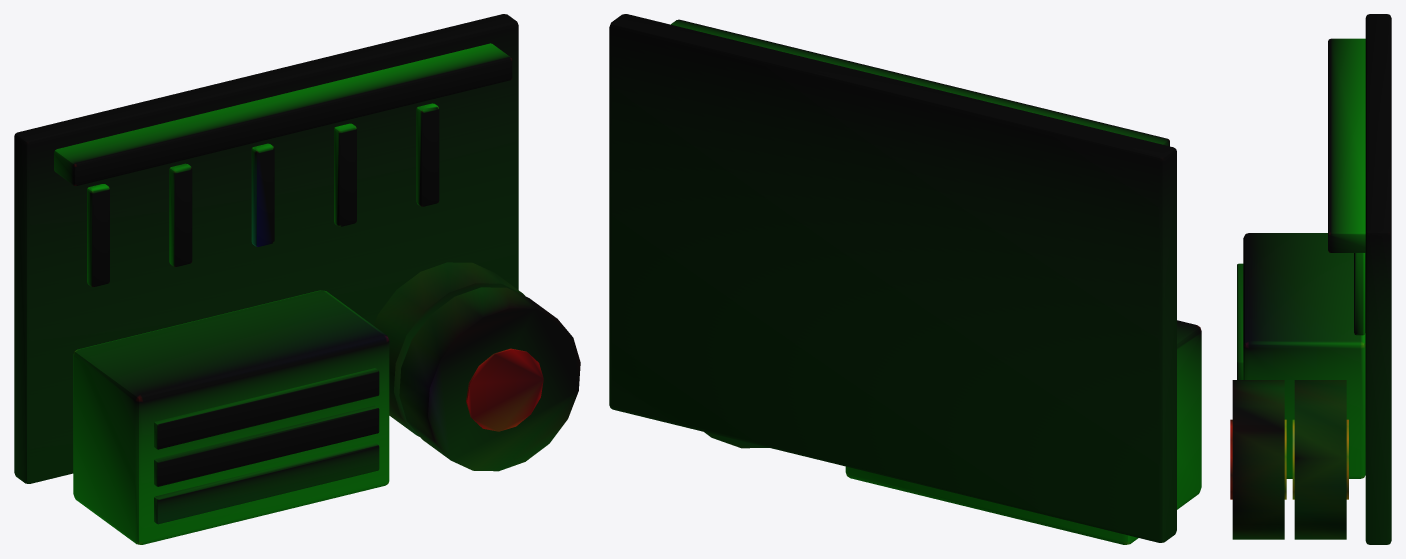
The model's file is hero_tool_wall_cabinet.glb.
The picture shows the model from 3 angles, left to right: view 1: azimuth 30°, elevation 25°; view 2: azimuth 150°, elevation 25°; view 3: azimuth 270°, elevation 25°; orthographic projection. The views are drawn at different scales.
Visible parts, largest first — view 1: HeroToolWallCabinet; view 2: HeroToolWallCabinet; view 3: HeroToolWallCabinet.
Boxes of the visible parts, x1,y1,x2,y2 form: HeroToolWallCabinet: [14, 14, 580, 544]; HeroToolWallCabinet: [609, 14, 1201, 544]; HeroToolWallCabinet: [1230, 14, 1391, 544].
Bounding box in the file's own units: 3.6 × 2.6 × 1.12.
